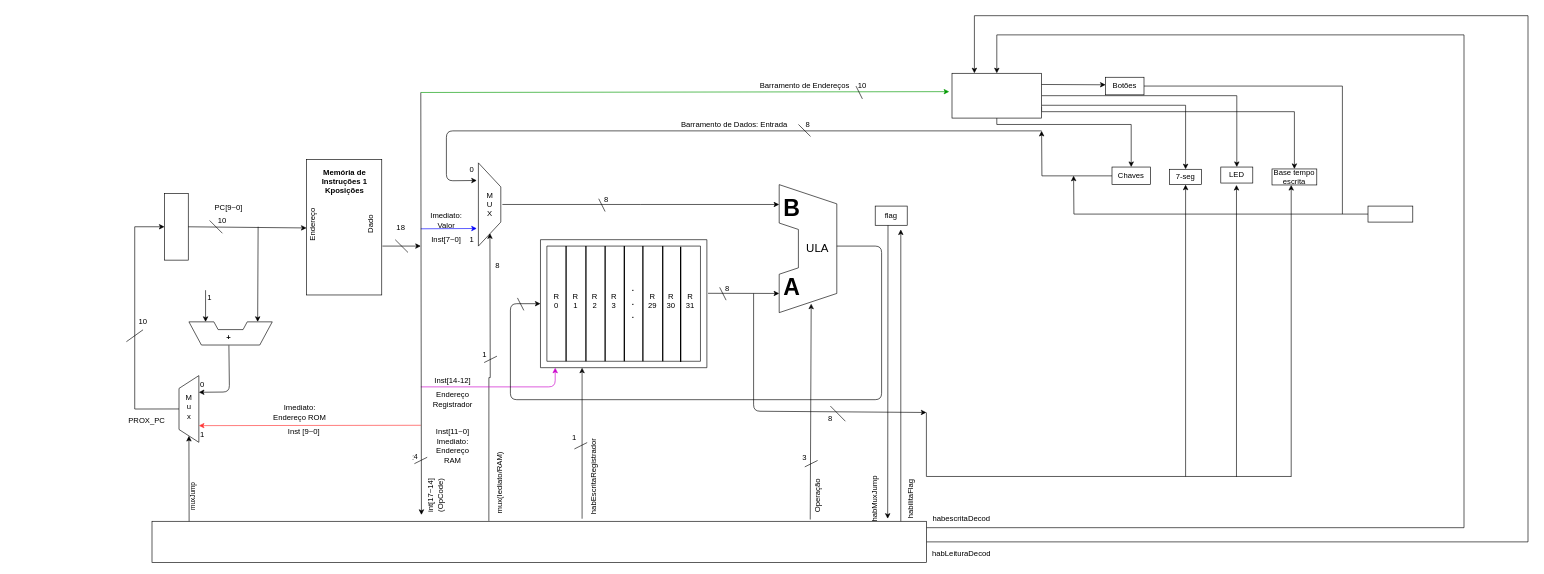
Image size: 1544x574. Some labels were removed from this diagram. Each missing label, with the centre of its shape:
"Base tempo leitura" goes at (x=1390, y=213).
"Decodificador de Endereços" goes at (x=996, y=95).
"PC" goes at (x=176, y=226).
"Unidade de Controle do FLuxo de Dados" goes at (x=538, y=541).
